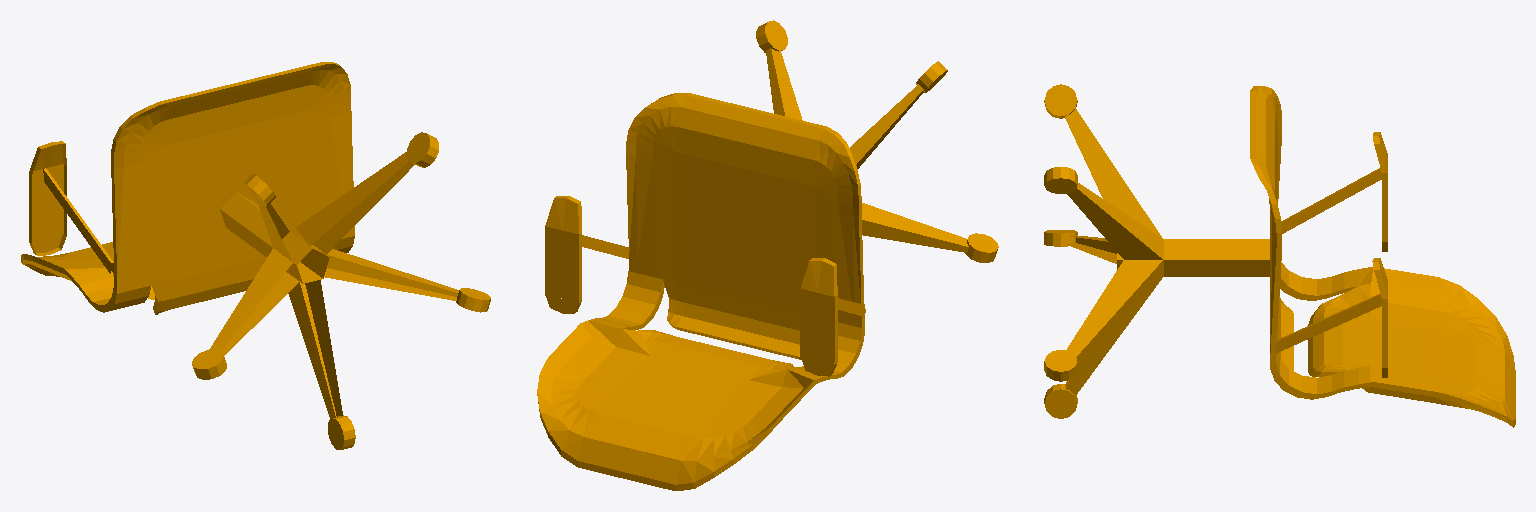
robot.urdf — none:
<robot name="none">
       <link name="none">
           <visual>
               <origin rpy="0 0 0" xyz="0 0 0" />
               <geometry>
                   <mesh filename="officeChair.obj" />
               </geometry>
           </visual>
          <collision>
            <origin rpy="0 0 0" xyz="0 0.5 0" />
              <geometry>
                  <box size="0.717032 1.000000 0.683208" />
              </geometry>
          </collision>

          <inertial>
            <mass value="0.0" />
            <inertia ixx="0.0" ixy="0.0" ixz="0.0" iyy="0.0" iyz="0.0" izz="0.0" />
          </inertial>
      </link>
  </robot>

--- Render facts (derived) ---
Views: 3 orthographic renders of the robot side by side, from view 1: azimuth 30°, elevation 25°; view 2: azimuth 150°, elevation 25°; view 3: azimuth 270°, elevation 25°.
Model none with 1 links and 0 joints (none), rooted at none, posed all joints at 0.
Visible links, largest first — view 1: none; view 2: none; view 3: none.
Boxes of the visible links, x1,y1,x2,y2 form: none: (21,62,490,449); none: (537,20,998,490); none: (1044,84,1515,427).
Size in the robot's own frame: 0.717 by 1 by 0.6832 metres.
1 mesh visuals loaded from 1 distinct referenced files (1 OBJ).